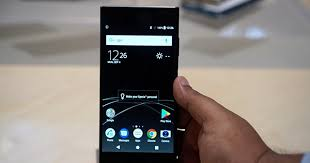sony: (97, 3, 182, 161)
